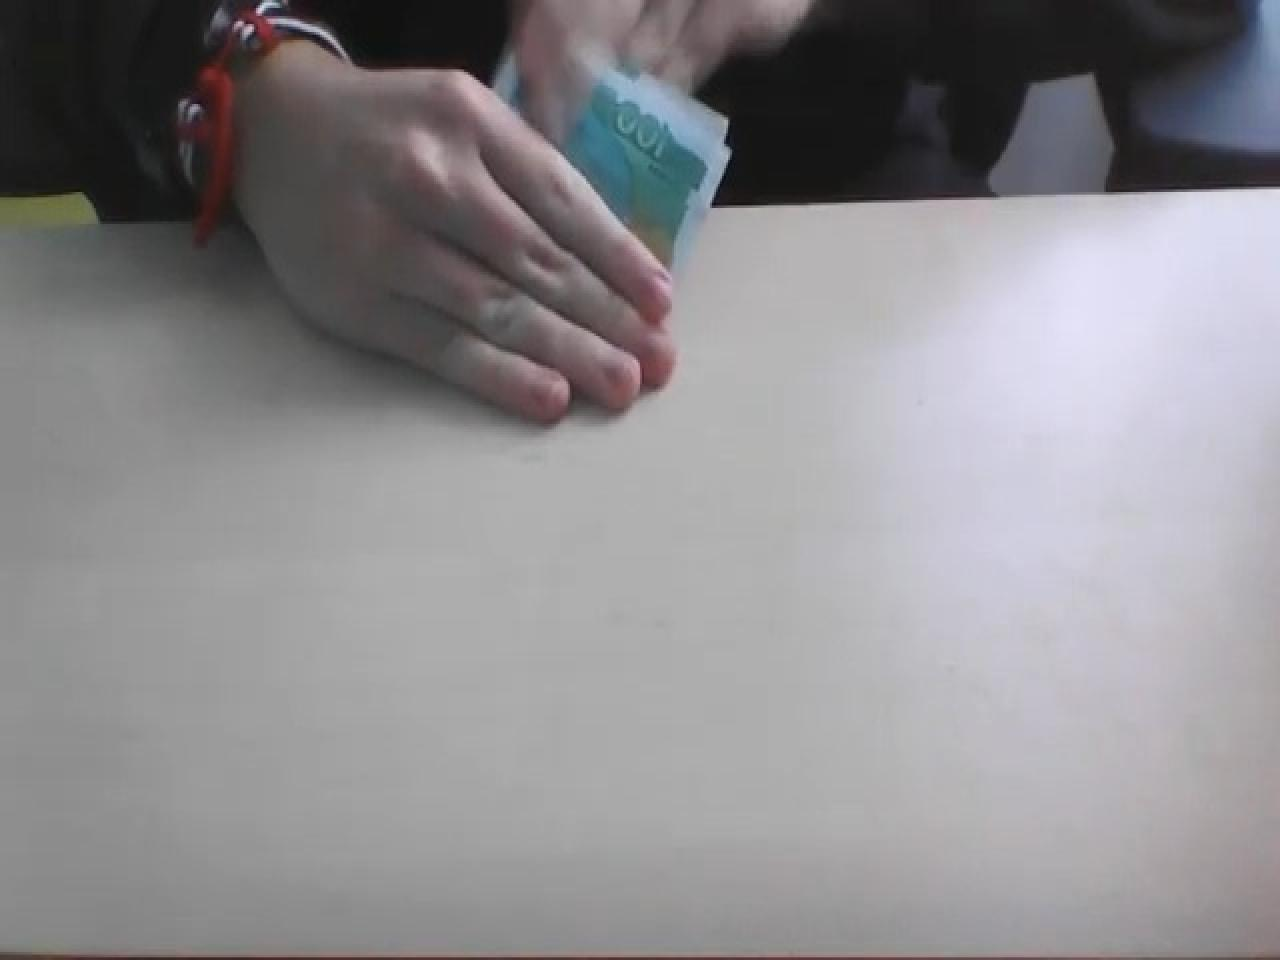100leva: (558, 70, 732, 269)
